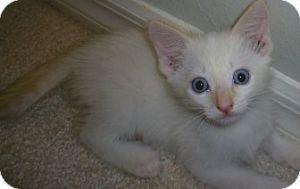siamese: (143, 1, 216, 64)
